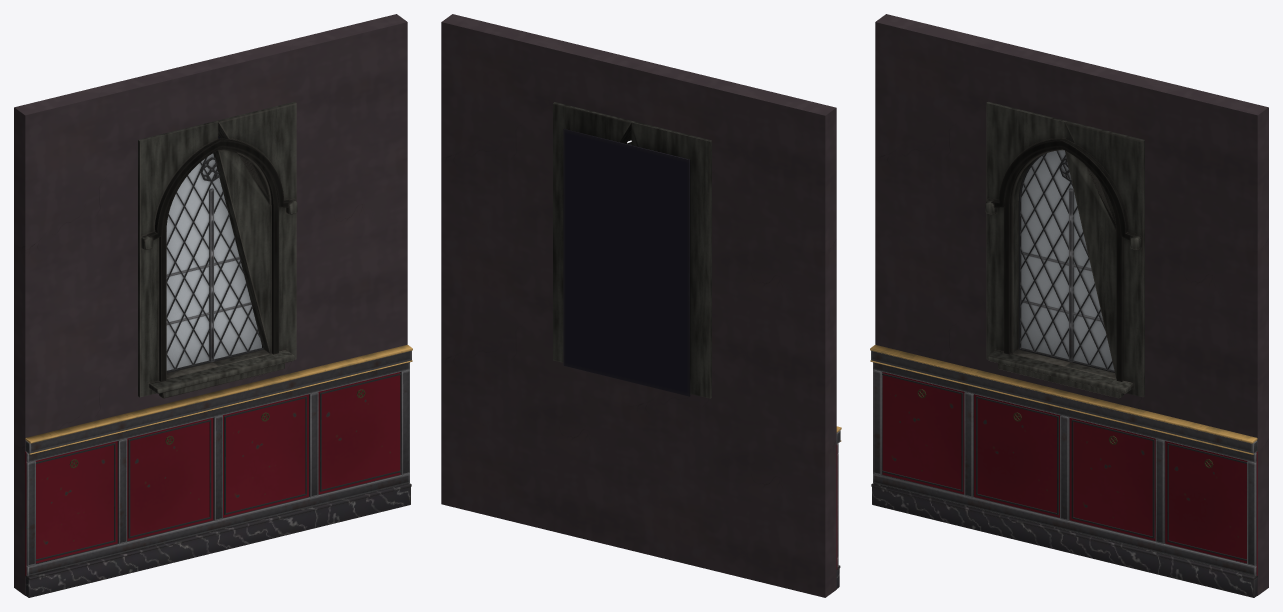
Rendered from DormWallWindow.fbx.
The picture shows the model from 3 angles, left to right: view 1: azimuth 30°, elevation 25°; view 2: azimuth 150°, elevation 25°; view 3: azimuth 330°, elevation 25°; orthographic projection.
Parts seen in each view (by area): view 1: DormWallWindow_Plaster, DormWallWindow_Main, DormWallWindow_Panel, DormWallWindow_Glass; view 2: DormWallWindow_Plaster, DormWallWindow_Sky, DormWallWindow_Main; view 3: DormWallWindow_Plaster, DormWallWindow_Main, DormWallWindow_Panel, DormWallWindow_Glass.
Boxes of the visible parts, x1=… form: DormWallWindow_Plaster: x1=14, y1=14, x2=407, y2=595; DormWallWindow_Main: x1=25, y1=101, x2=412, y2=597; DormWallWindow_Panel: x1=25, y1=372, x2=400, y2=575; DormWallWindow_Glass: x1=166, y1=153, x2=261, y2=370; DormWallWindow_Plaster: x1=441, y1=14, x2=836, y2=597; DormWallWindow_Sky: x1=563, y1=129, x2=690, y2=396; DormWallWindow_Main: x1=553, y1=102, x2=841, y2=588; DormWallWindow_Plaster: x1=875, y1=14, x2=1268, y2=595; DormWallWindow_Main: x1=870, y1=101, x2=1257, y2=597; DormWallWindow_Panel: x1=882, y1=372, x2=1257, y2=575; DormWallWindow_Glass: x1=1021, y1=150, x2=1114, y2=370.
Size of the model in its own units: 1000 by 1200 by 126.
